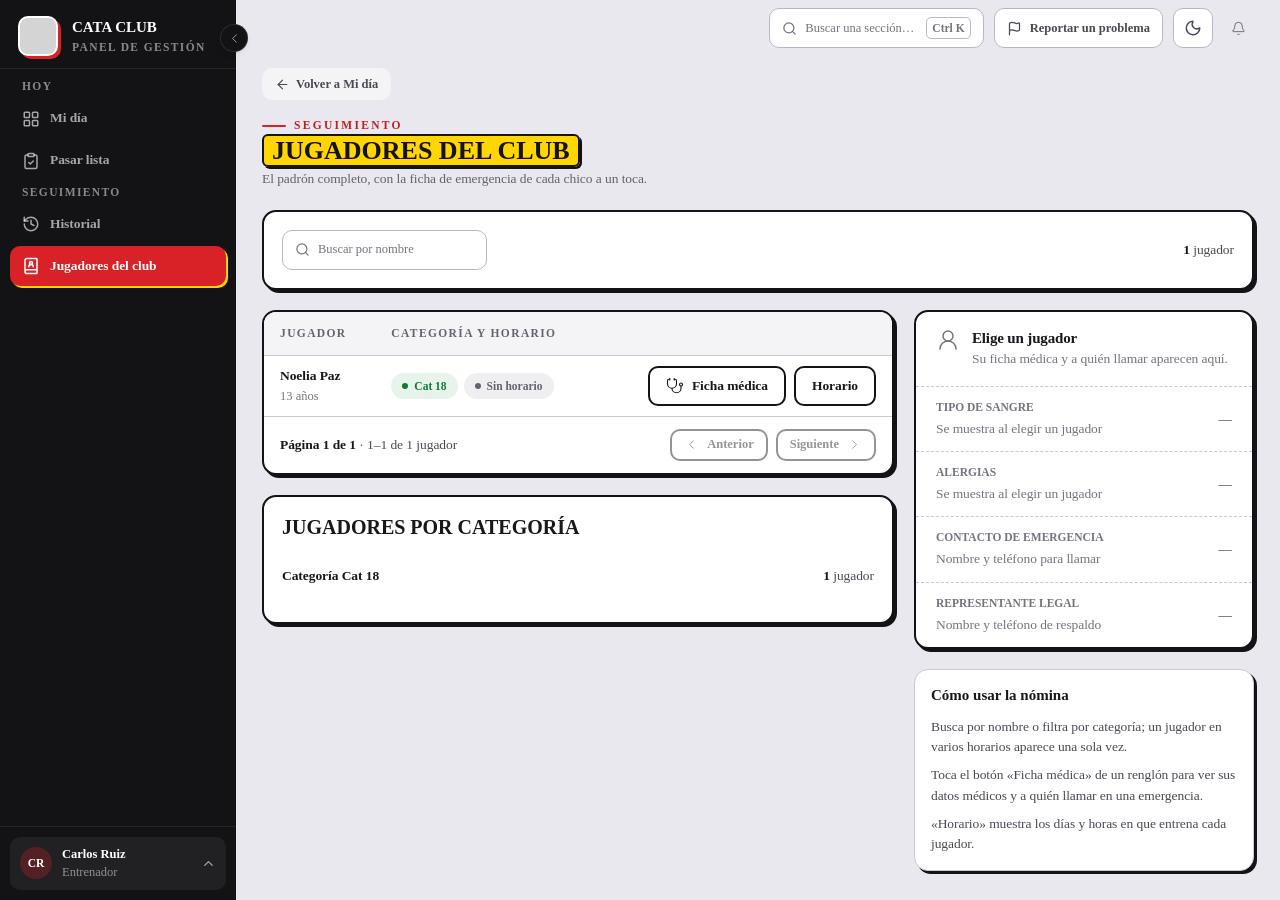
Test: la ficha de emergencia es la única acción del renglón › explica cuando el padrón no trae un horario legible
The image size is (1280, 900).
Click the button with aria-label "Horario de Noelia Paz". click: (835, 386)
box: left=794, top=366, right=876, bottom=406
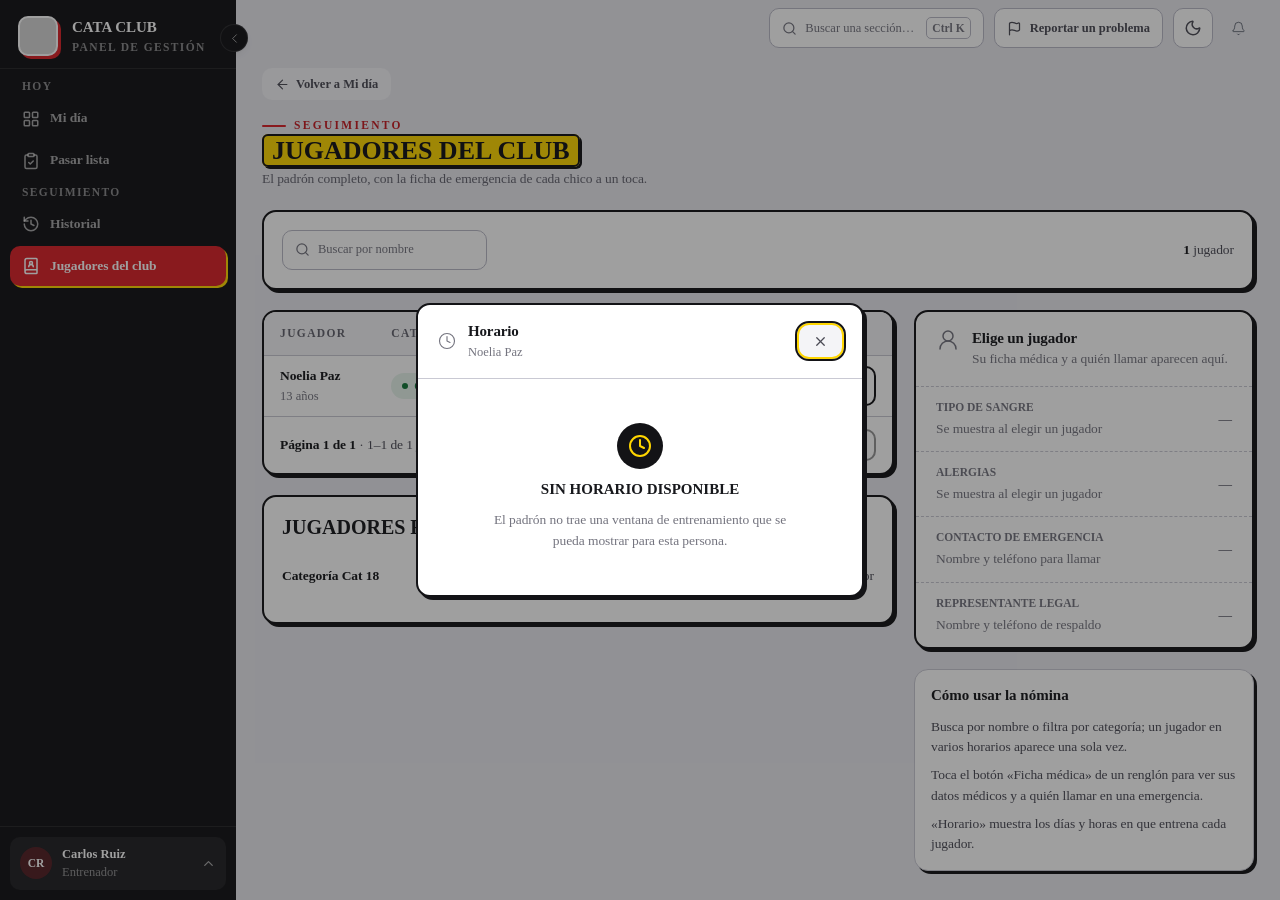
Result: the text "Sin horario disponible" is shown at left=541, top=479, right=739, bottom=500
Result: the button named "Cerrar horario" is shown at left=799, top=325, right=842, bottom=357
